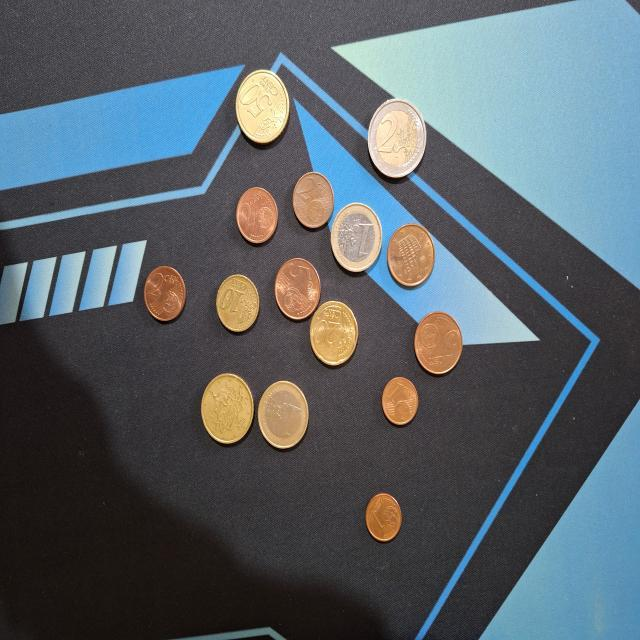10c: (215, 272, 260, 334)
1c: (380, 374, 420, 426), (365, 491, 402, 543)
1e: (257, 378, 310, 452), (331, 200, 384, 274)
20c: (308, 299, 359, 366)
2c: (367, 99, 428, 183), (234, 184, 280, 247), (143, 264, 187, 324), (291, 171, 334, 230)
50c: (236, 68, 292, 148), (200, 370, 255, 445)
5c: (413, 310, 464, 376), (386, 222, 436, 289), (274, 257, 322, 322)
